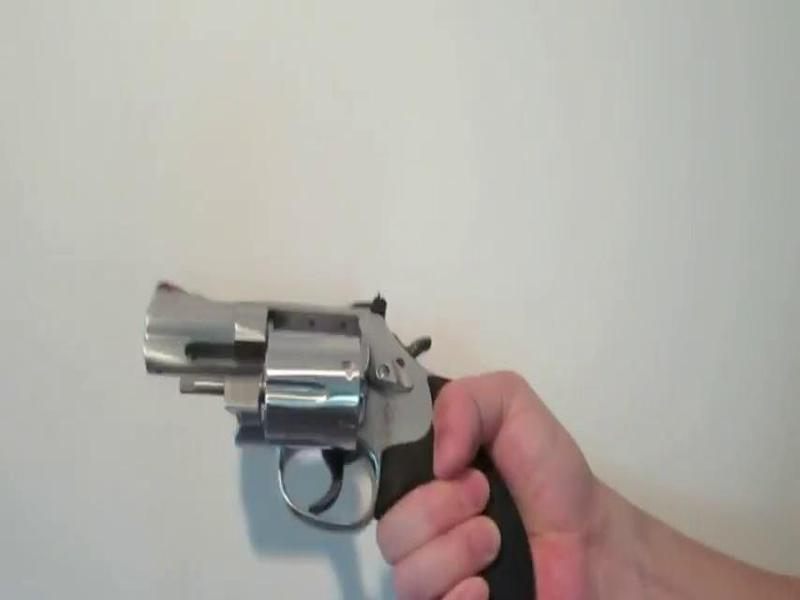Revolver: (122, 265, 512, 600)
